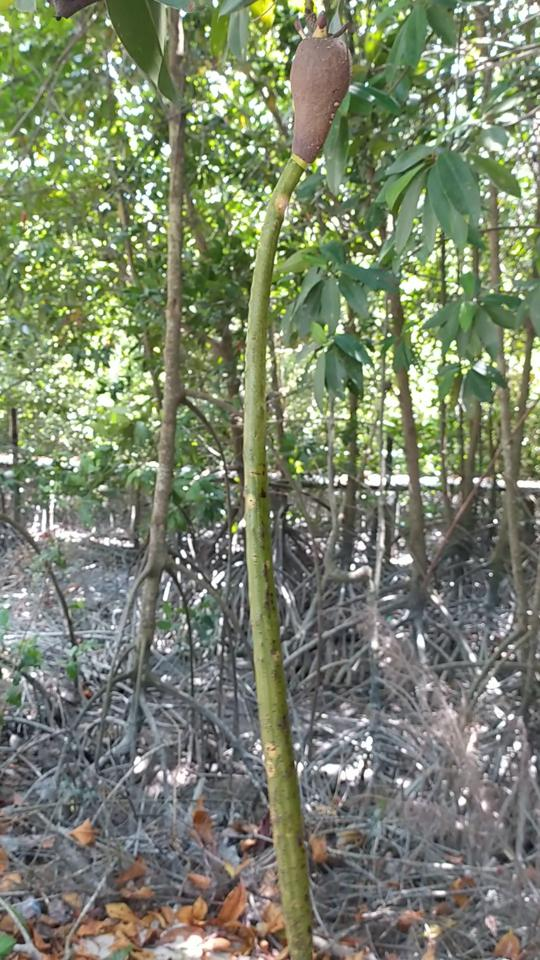setengah matang: (238, 6, 363, 958)
